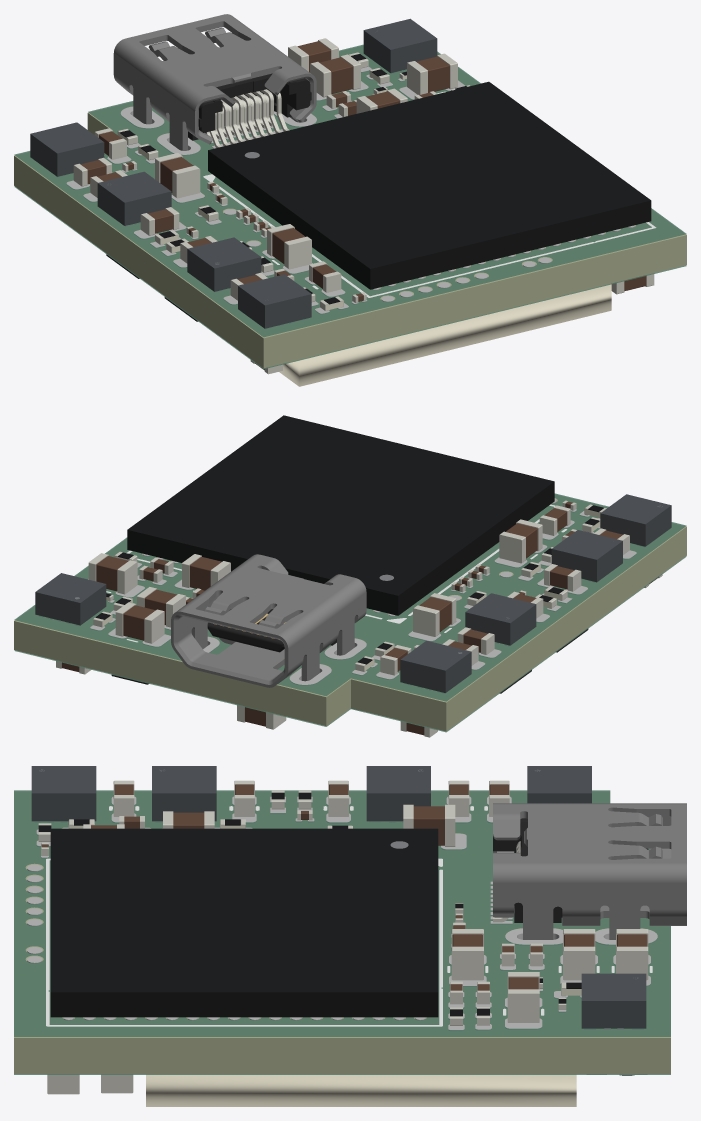
Rendered from frontend-v21.glb.
3 views of the same model, one above another, from view 1: azimuth 30°, elevation 25°; view 2: azimuth 150°, elevation 25°; view 3: azimuth 270°, elevation 25° (orthographic). The views are drawn at different scales.
Visible parts, largest first — view 1: CSG325_Body, =>[0:1:1:397], =>[0:1:1:395], =>[0:1:1:360], =>[0:1:1:11] (×5), =>[0:1:1:372], =>[0:1:1:5] (×6), =>[0:1:1:392], =>[0:1:1:358] (×4), =>[0:1:1:396], =>[0:1:1:393]; view 2: CSG325_Body, =>[0:1:1:397], =>[0:1:1:360], =>[0:1:1:395], =>[0:1:1:11] (×5), =>[0:1:1:5] (×7), =>[0:1:1:392], =>[0:1:1:358] (×4), =>[0:1:1:396]; view 3: CSG325_Body, =>[0:1:1:397], =>[0:1:1:395], =>[0:1:1:360], =>[0:1:1:11] (×5), =>[0:1:1:374], =>[0:1:1:5] (×8), =>[0:1:1:392], =>[0:1:1:358] (×5), =>[0:1:1:393], =>[0:1:1:396].
Part boxes in pixels (x1,y1,x2,y2): CSG325_Body: (208,81,651,289); =>[0:1:1:397]: (14,46,686,368); =>[0:1:1:395]: (14,44,686,337); =>[0:1:1:360]: (113,14,316,150); =>[0:1:1:11] (×5): (30,18,437,328); =>[0:1:1:372]: (279,284,611,386); =>[0:1:1:5] (×6): (155,38,457,269); =>[0:1:1:392]: (66,66,634,325); =>[0:1:1:358] (×4): (73,128,341,292); =>[0:1:1:396]: (14,186,686,369); =>[0:1:1:393]: (203,91,656,297); CSG325_Body: (127,415,554,615); =>[0:1:1:397]: (14,495,686,731); =>[0:1:1:360]: (171,554,366,687); =>[0:1:1:395]: (14,493,686,701); =>[0:1:1:11] (×5): (35,494,671,692); =>[0:1:1:5] (×7): (88,519,542,729); =>[0:1:1:392]: (41,499,636,689); =>[0:1:1:358] (×4): (380,505,581,675); =>[0:1:1:396]: (14,556,686,732); CSG325_Body: (50,828,438,1017); =>[0:1:1:397]: (14,792,670,1073); =>[0:1:1:395]: (14,790,670,1036); =>[0:1:1:360]: (493,803,686,939); =>[0:1:1:11] (×5): (31,766,646,1028); =>[0:1:1:374]: (146,1074,576,1106); =>[0:1:1:5] (×8): (47,804,648,1094); =>[0:1:1:392]: (27,796,657,1030); =>[0:1:1:358] (×5): (113,780,509,816); =>[0:1:1:393]: (46,806,652,1026); =>[0:1:1:396]: (14,1074,670,1074).
Size of the model in its own units: 0.0226 by 0.00602 by 0.026.
